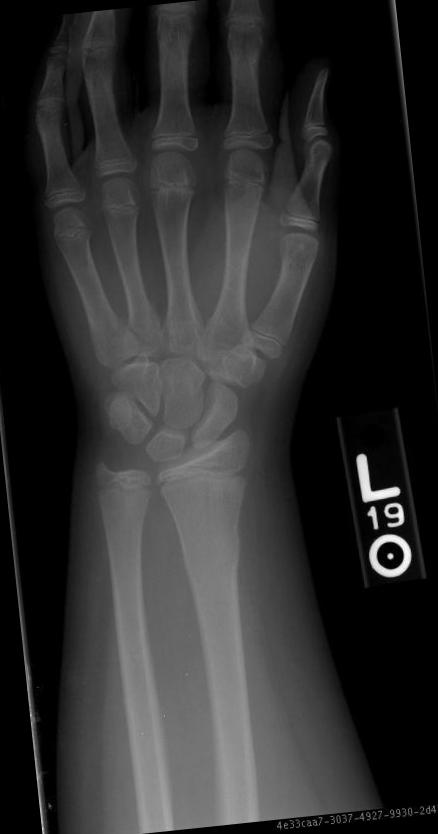fracture: (96, 472, 150, 497), (54, 225, 86, 240)
